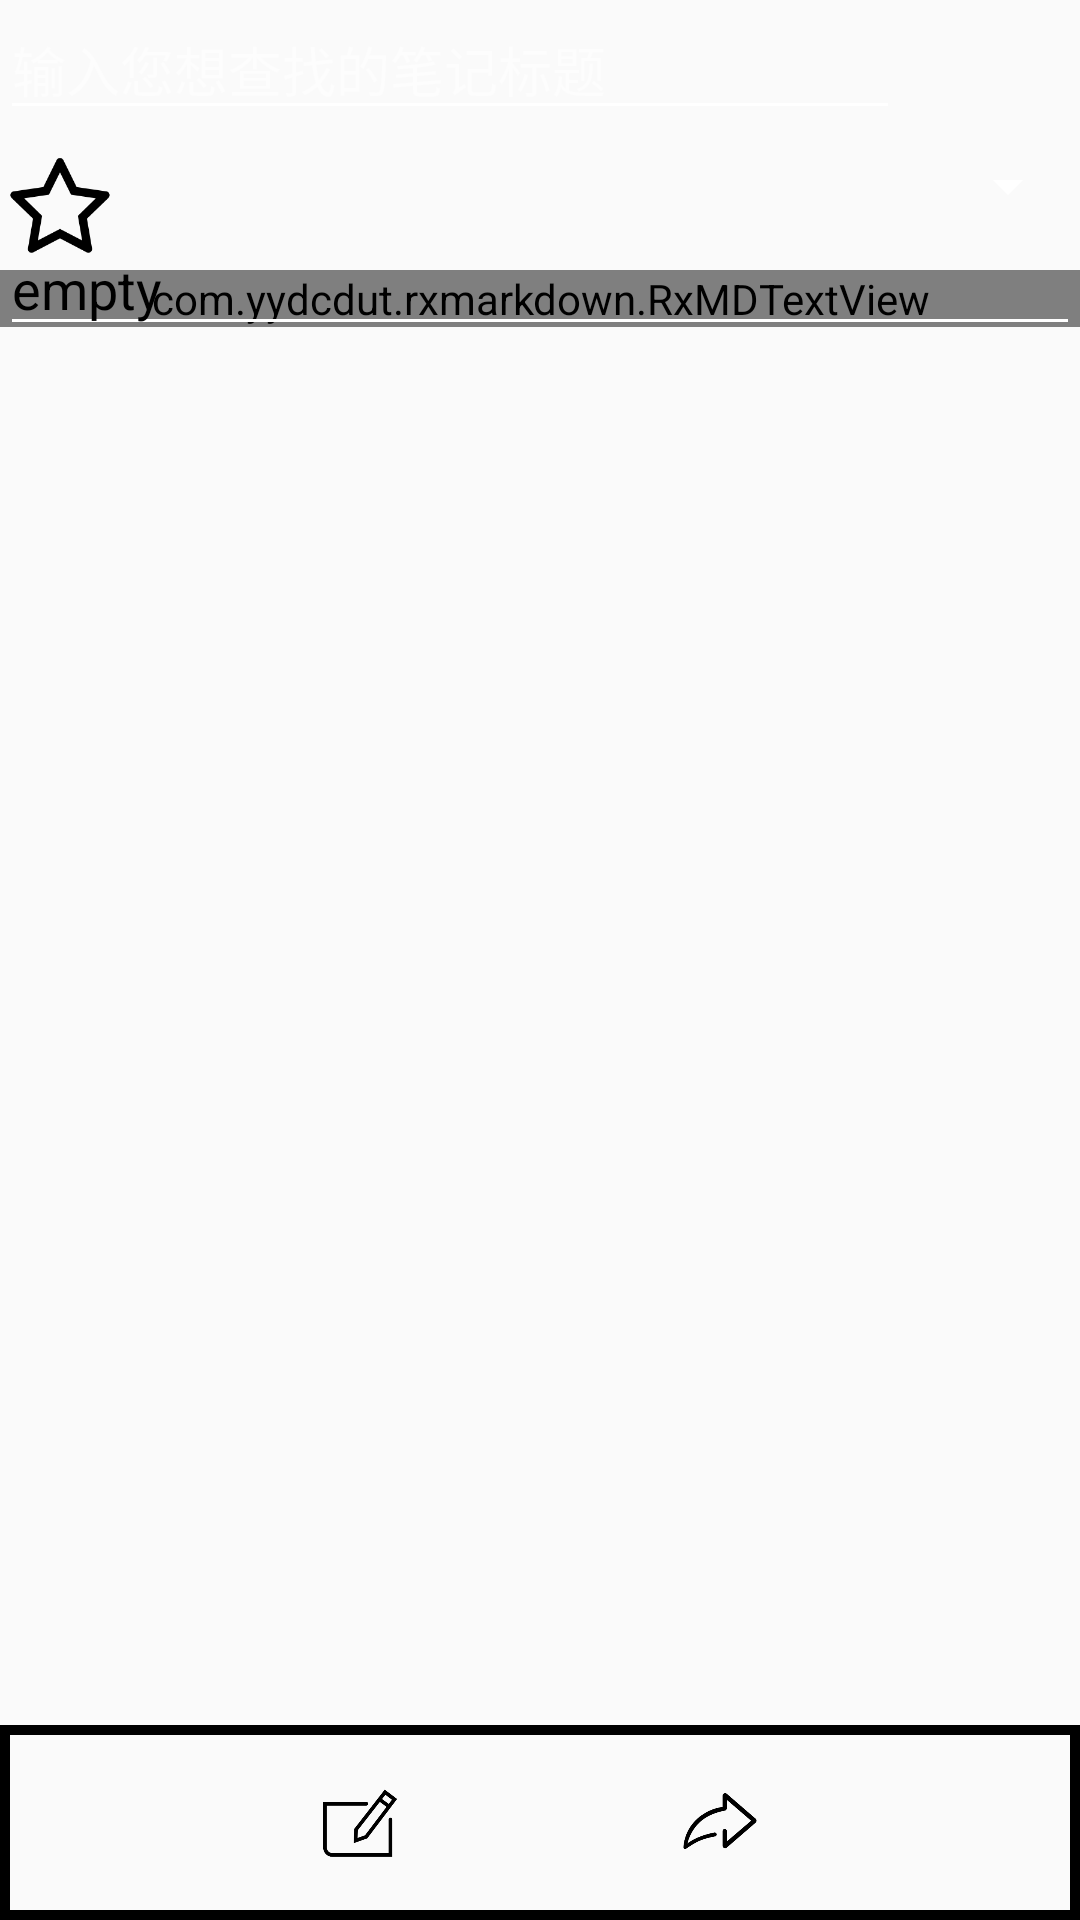

Locate icon controls on the screen. Image size 1080×1920, boxes as (x1, y1, x2, y2).
ali share: (683, 1793, 757, 1849)
edit: (323, 1790, 397, 1857)
star: (10, 158, 110, 253)
